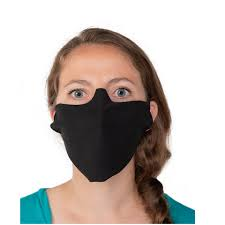FaceMask: (51, 89, 153, 182)
